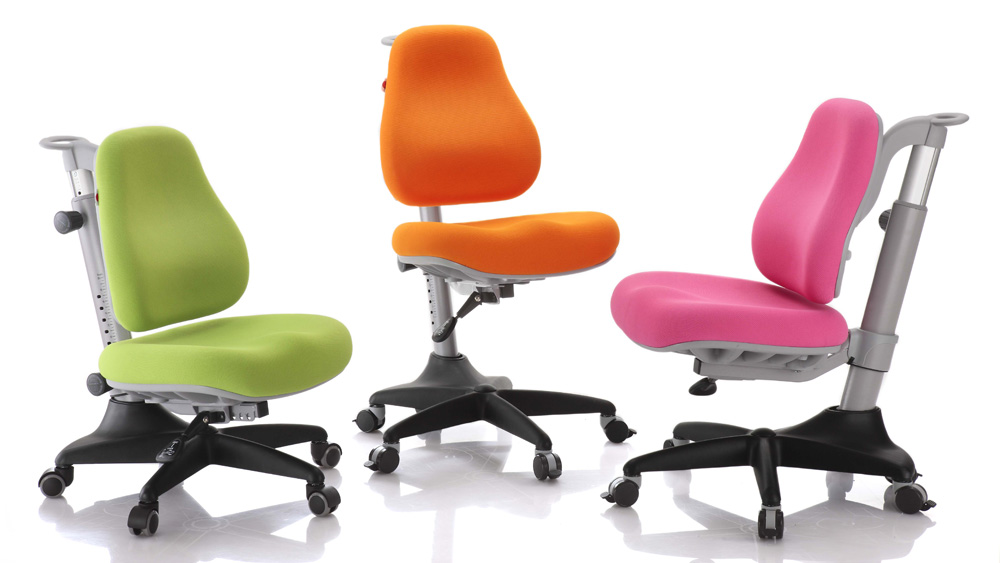chairs: (594, 98, 972, 540), (349, 25, 639, 493), (21, 132, 353, 528)
